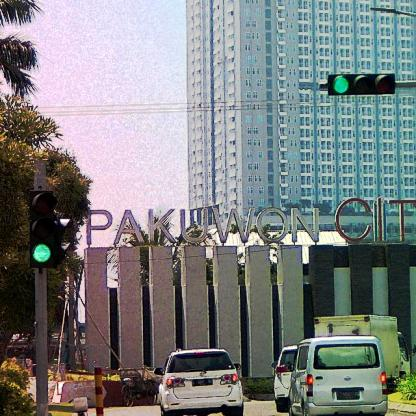Traffic Light -Green-: (30, 190, 56, 268), (328, 75, 396, 97)
